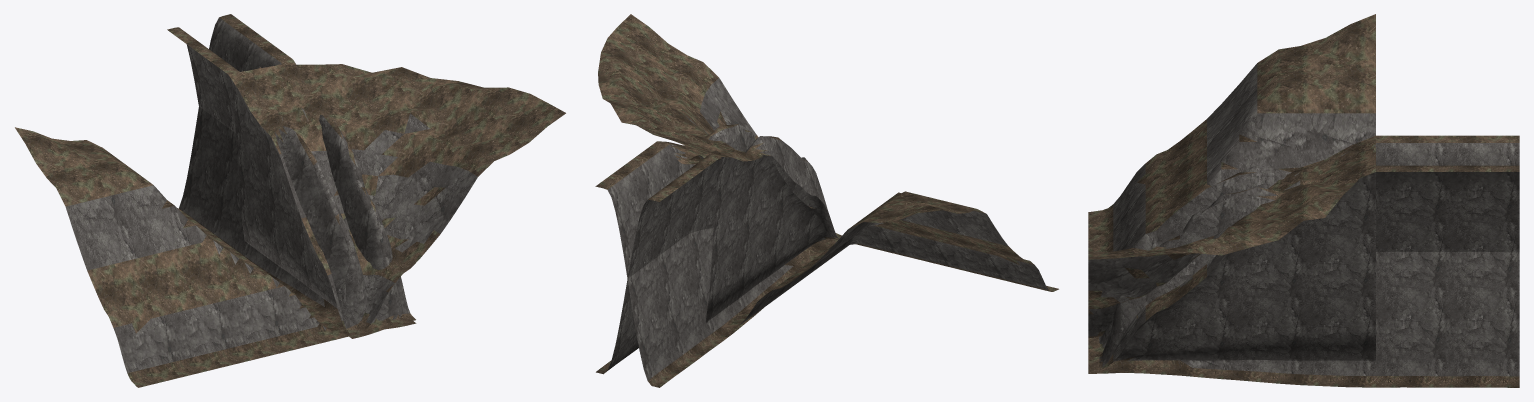
The model's file is bk_coast_land_autumn.glb.
3 views of the same model, side by side, from view 1: azimuth 30°, elevation 25°; view 2: azimuth 150°, elevation 25°; view 3: azimuth 270°, elevation 25° (orthographic). The views are drawn at different scales.
Visible parts, largest first — view 1: corner_inner, corner_outer, endcap_sea_to_land, endcap_land_to_sea, pass12, straight12_a, straight6; view 2: endcap_sea_to_land, corner_outer, pass12, corner_inner, endcap_land_to_sea, straight12_a; view 3: endcap_land_to_sea, pass12, corner_inner, endcap_sea_to_land, corner_outer, straight12_a.
Part boxes in pixels (x1,y1,x2,y2): corner_inner: (15,127,351,387); corner_outer: (229,64,565,335); endcap_sea_to_land: (179,14,411,338); endcap_land_to_sea: (167,27,416,331); pass12: (229,76,415,335); straight12_a: (240,60,414,333); straight6: (246,67,376,325); endcap_sea_to_land: (595,124,837,387); corner_outer: (598,14,841,239); pass12: (705,157,836,322); corner_inner: (722,191,1058,328); endcap_land_to_sea: (596,136,839,374); straight12_a: (660,141,815,208); endcap_land_to_sea: (1088,135,1519,387); pass12: (1088,172,1375,369); corner_inner: (1088,14,1375,251); endcap_sea_to_land: (1099,165,1519,368); corner_outer: (1088,135,1375,337); straight12_a: (1089,146,1375,369).
Bounding box in the file's own units: 80 × 33.26 × 60.
2 materials, 2 textured.
